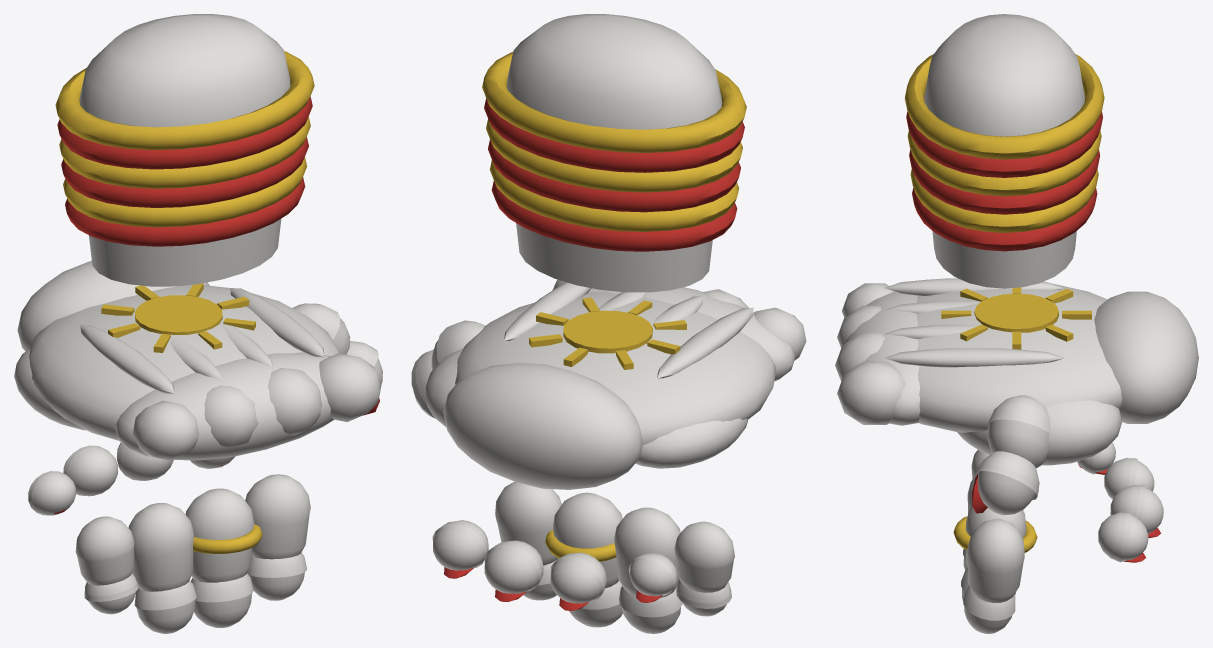
Rendered from MachuPicchu_Mano.fbx.
The picture shows the model from 3 angles, left to right: view 1: azimuth 30°, elevation 25°; view 2: azimuth 150°, elevation 25°; view 3: azimuth 270°, elevation 25°; orthographic projection. The views are drawn at different scales.
Visible parts, largest first — view 1: Antebrazo, Palma, Dedo_Medio_1, Dedo_Anular_1, Dedo_Indice_1, Dedo_Menique_1, Dedo_Medio_2, Dedo_Anular_2, Dedo_Indice_2, Dedo_Anular_3, Dedo_Menique_3, Dedo_Menique_2 (+3 smaller); view 2: Antebrazo, Palma, Dedo_Medio_1, Dedo_Menique_1, Dedo_Indice_1, Dedo_Anular_1, Dedo_Medio_3, Dedo_Anular_3, Dedo_Indice_3, Dedo_Anular_2, Dedo_Menique_3, Dedo_Medio_2 (+4 smaller); view 3: Palma, Antebrazo, Dedo_Indice_1, Pulgar_2, Pulgar_1, Dedo_Indice_3, Dedo_Medio_3, Dedo_Indice_2, Dedo_Medio_1, Dedo_Anular_3, Dedo_Menique_3.
Boxes of the visible parts, x1,y1,x2,y2 form: Antebrazo: (55, 14, 314, 286); Palma: (14, 261, 381, 460); Dedo_Medio_1: (185, 488, 262, 582); Dedo_Anular_1: (128, 503, 193, 591); Dedo_Indice_1: (245, 474, 310, 559); Dedo_Menique_1: (75, 516, 134, 585); Dedo_Medio_2: (191, 573, 253, 627); Dedo_Anular_2: (134, 580, 196, 633); Dedo_Indice_2: (247, 552, 306, 600); Dedo_Anular_3: (63, 445, 118, 496); Dedo_Menique_3: (28, 471, 75, 515); Dedo_Menique_2: (84, 573, 138, 614); Antebrazo: (482, 14, 746, 292); Palma: (424, 279, 806, 489); Dedo_Medio_1: (545, 492, 622, 588); Dedo_Menique_1: (674, 521, 734, 592); Dedo_Indice_1: (495, 481, 561, 565); Dedo_Anular_1: (614, 507, 680, 597); Dedo_Medio_3: (484, 540, 543, 601); Dedo_Anular_3: (550, 552, 606, 610); Dedo_Indice_3: (432, 520, 488, 578); Dedo_Anular_2: (619, 586, 682, 633); Dedo_Menique_3: (628, 553, 677, 602); Dedo_Medio_2: (569, 580, 622, 627); Palma: (835, 278, 1198, 465); Antebrazo: (904, 14, 1104, 288); Dedo_Indice_1: (967, 518, 1024, 602); Pulgar_2: (971, 451, 1039, 515); Pulgar_1: (986, 395, 1050, 468); Dedo_Indice_3: (1098, 512, 1148, 562); Dedo_Medio_3: (1110, 485, 1163, 538); Dedo_Indice_2: (963, 586, 1015, 633); Dedo_Medio_1: (953, 506, 1037, 567); Dedo_Anular_3: (1104, 458, 1154, 499); Dedo_Menique_3: (1077, 442, 1115, 474).
Size of the model in its own units: 0.6049 by 1.05 by 0.6031.
